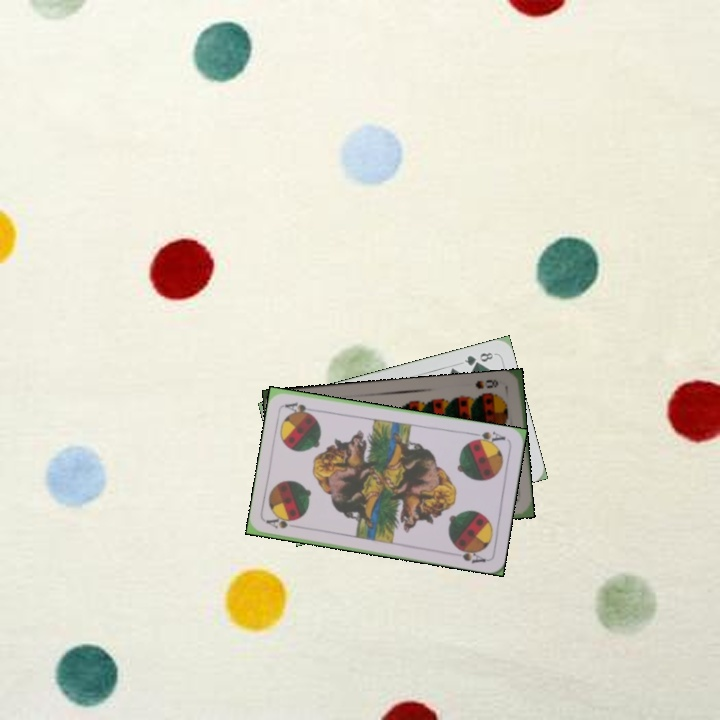G8: (460, 348, 496, 368)
S8: (471, 375, 501, 391)
SA: (467, 427, 508, 447), (263, 514, 303, 531)
